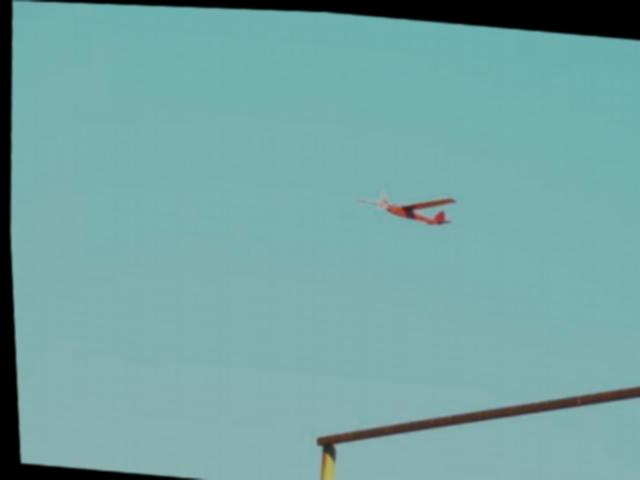iha: (355, 188, 451, 221)
